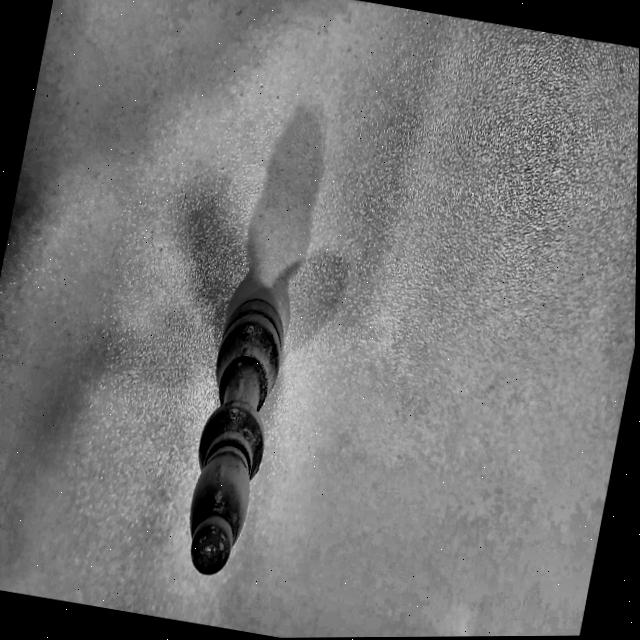black-bishop: (169, 276, 306, 587)
